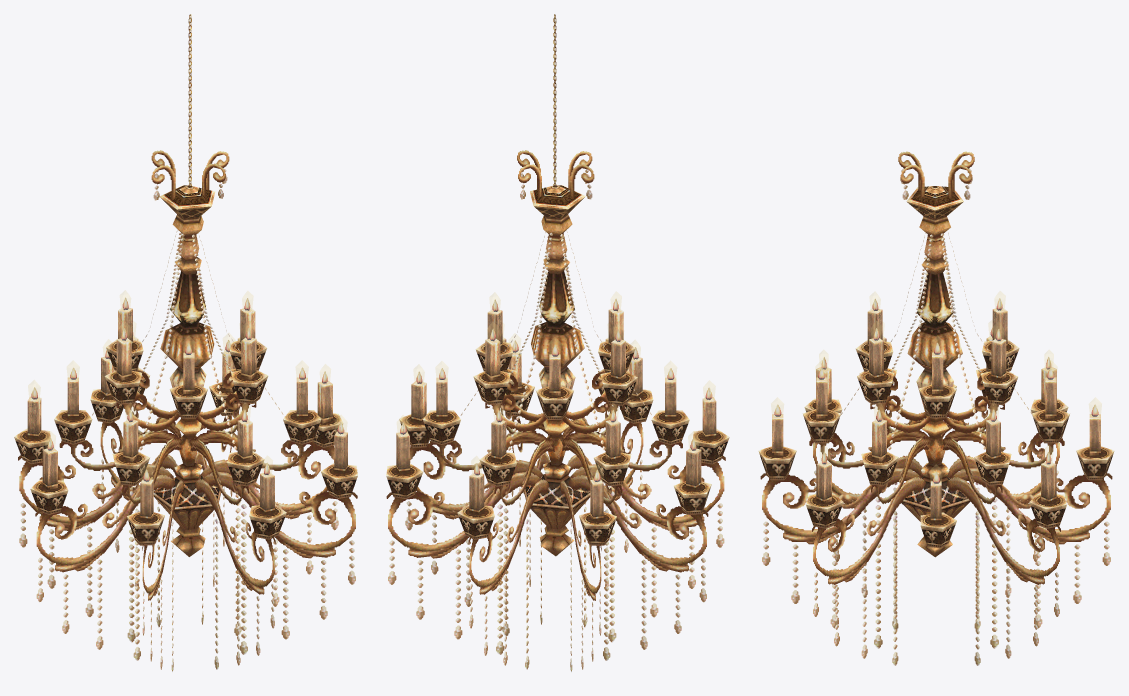
3 views of the same model, side by side, from view 1: azimuth 30°, elevation 25°; view 2: azimuth 150°, elevation 25°; view 3: azimuth 270°, elevation 25° (orthographic).
Visible parts, largest first — view 1: chandelier_y_01 (×3); view 2: chandelier_y_01 (×3); view 3: chandelier_y_01 (×3).
Part boxes in pixels (x1=…): chandelier_y_01 (×3): x1=14, y1=14, x2=357, y2=672; chandelier_y_01 (×3): x1=386, y1=14, x2=729, y2=672; chandelier_y_01 (×3): x1=758, y1=151, x2=1114, y2=665.
Bounding box in the file's own units: 0.1006 × 0.2081 × 0.1006.
3 materials, 3 textured.
